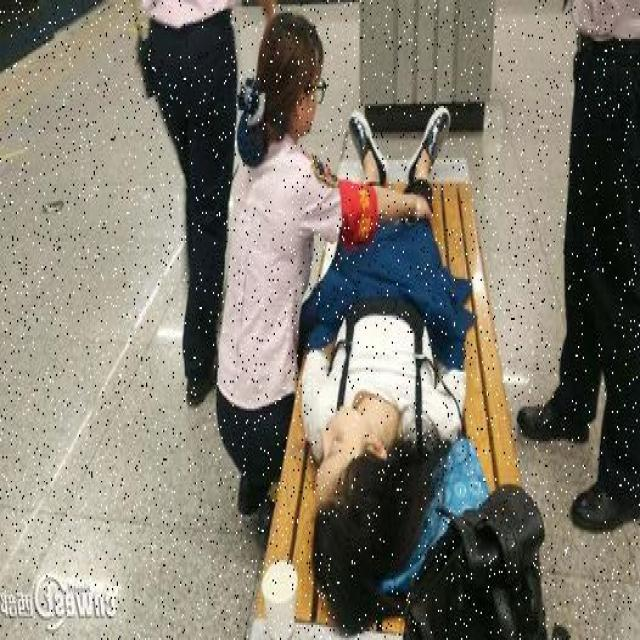fall: (316, 104, 462, 605)
